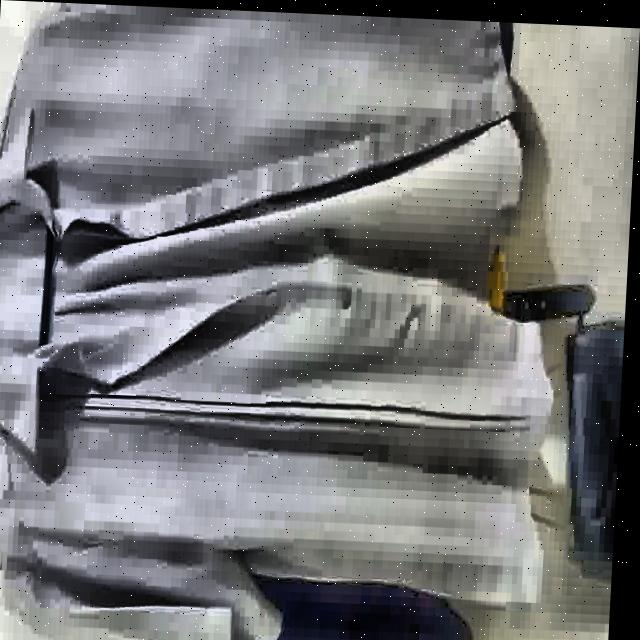clothes: (0, 6, 594, 640)
